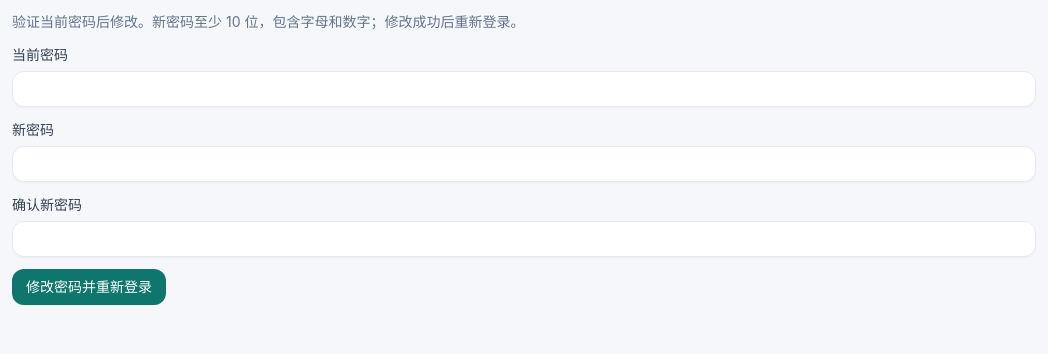
Test: 确认密码不匹配不发送请求
Type "old-password" into the password field labelled "当前密码" at (524, 89), box 12,71 -> 1036,107
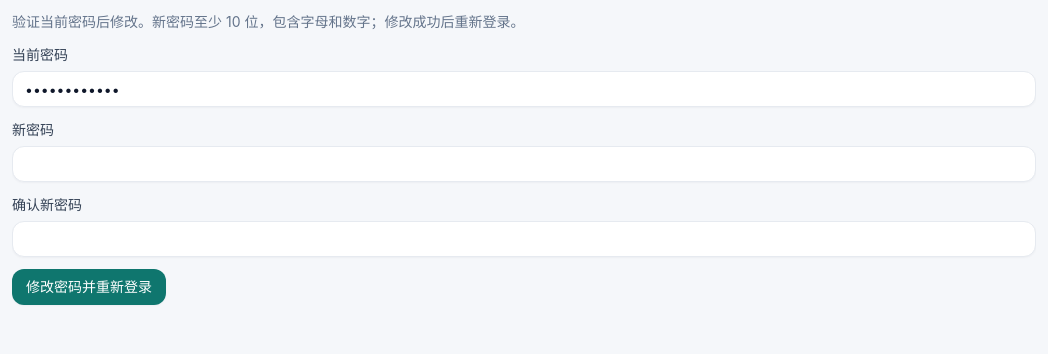
Type "NewPassword123!" into the password field labelled "新密码" at (524, 164), box 12,146 -> 1036,182
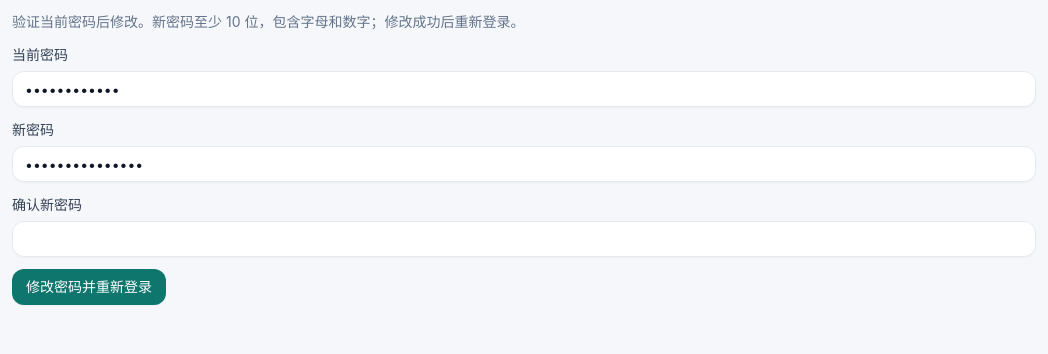
Type "Different123!" into the password field labelled "确认新密码" at (524, 239), box 12,221 -> 1036,257
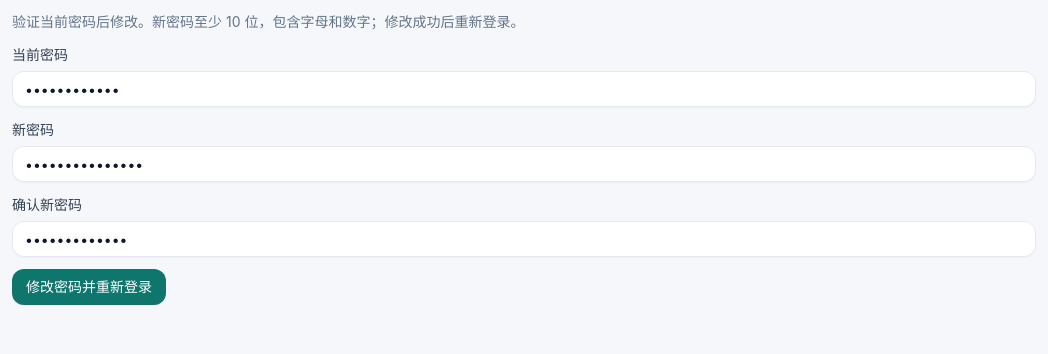
Click the button at (89, 287), box 12,269 -> 166,305
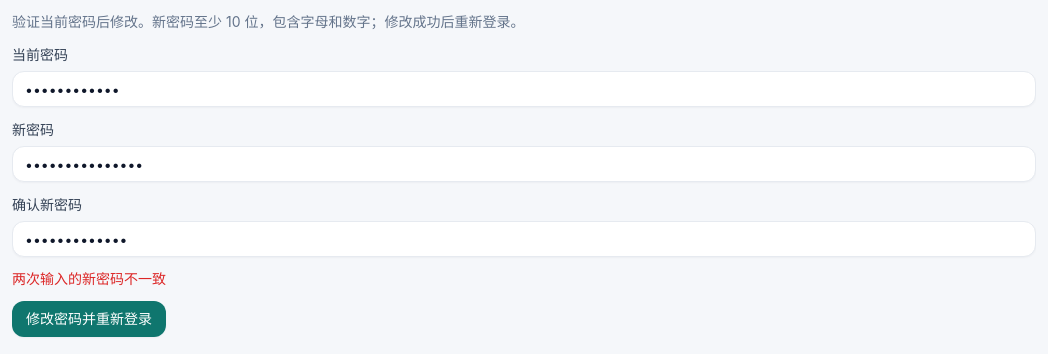
Result: the message reads "两次输入的新密码不一致" at 12,270 -> 166,287
